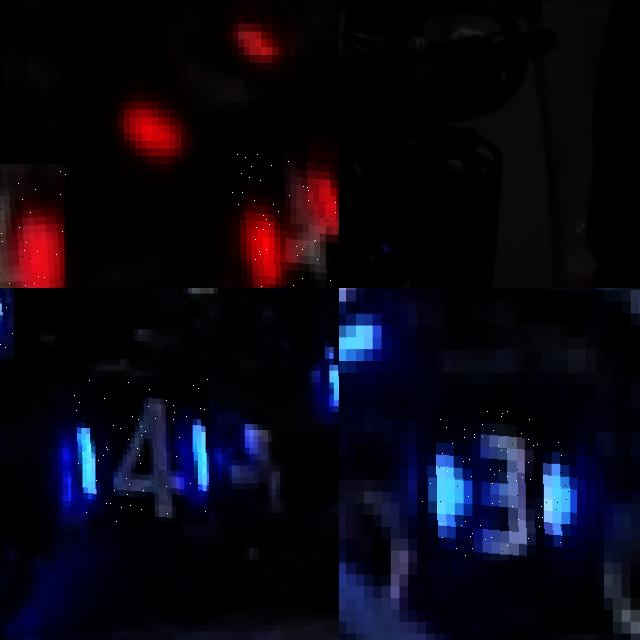B3: (417, 408, 577, 562)
B4: (72, 376, 210, 524)
R4: (232, 148, 339, 288), (0, 164, 66, 288)
